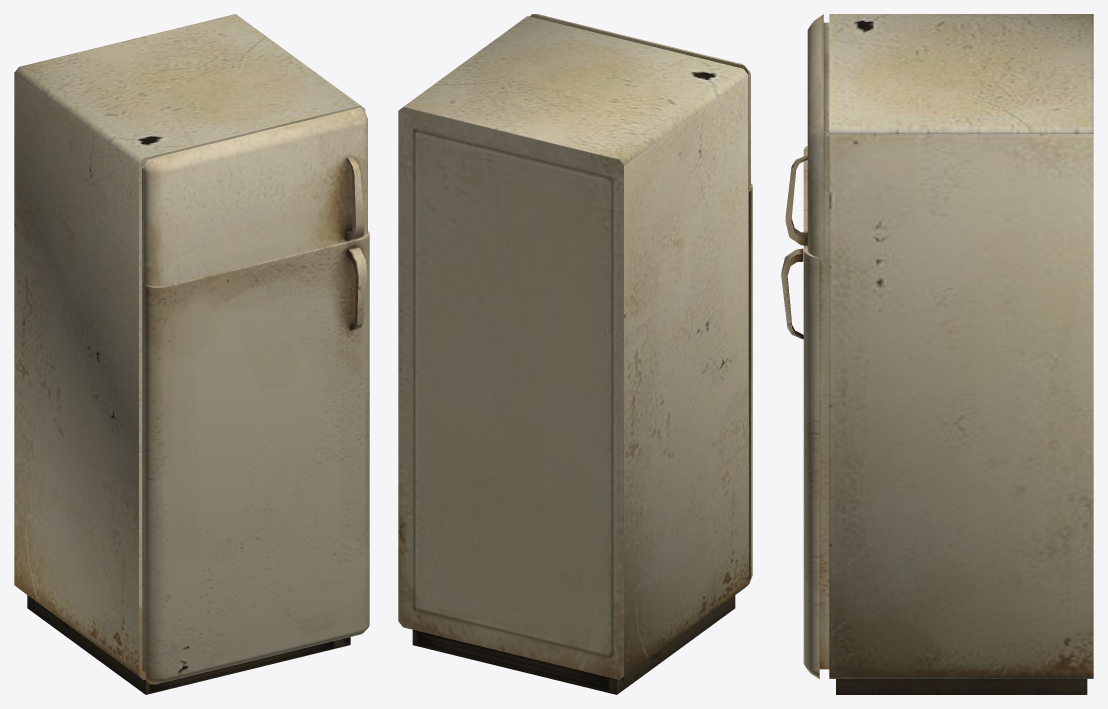
Rendered from si-kuehlschrank.glb.
3 views of the same model, side by side, from view 1: azimuth 30°, elevation 25°; view 2: azimuth 150°, elevation 25°; view 3: azimuth 270°, elevation 25° (orthographic). The views are drawn at different scales.
Parts seen in each view (by area): view 1: si-kuehlschrank; view 2: si-kuehlschrank; view 3: si-kuehlschrank.
Part boxes in pixels (x1=…): si-kuehlschrank: x1=14, y1=14, x2=369, y2=694; si-kuehlschrank: x1=398, y1=14, x2=752, y2=694; si-kuehlschrank: x1=781, y1=14, x2=1093, y2=694.
Bounding box in the file's own units: 0.627 × 1.43 × 0.7069.
3 materials, 3 textured.
